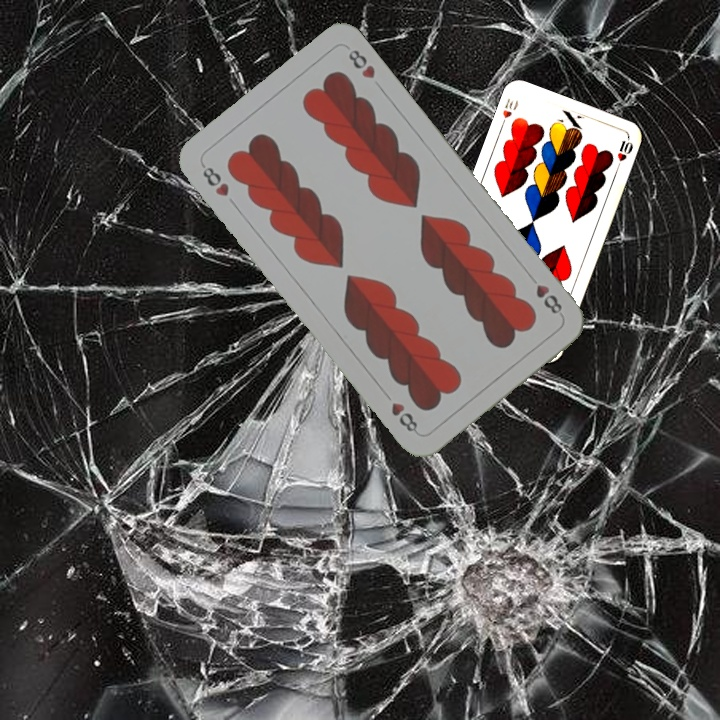H10: (496, 94, 521, 131)
H8: (197, 160, 232, 199), (531, 280, 565, 317)
